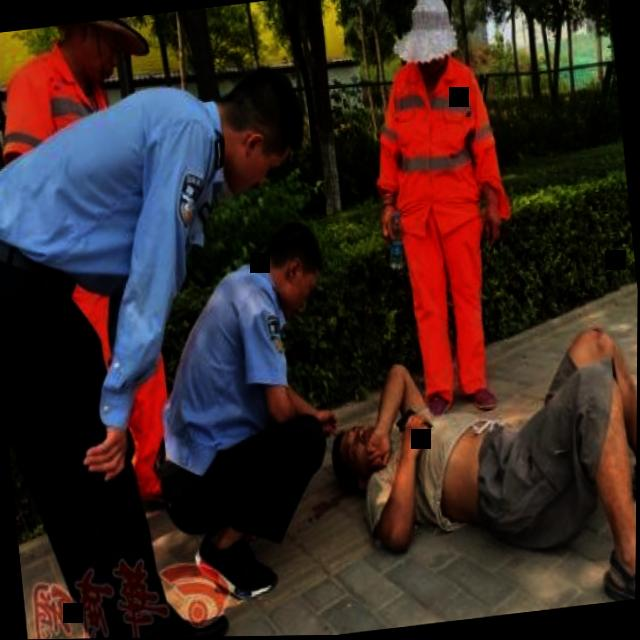Fall-Detected: (302, 307, 638, 636)
